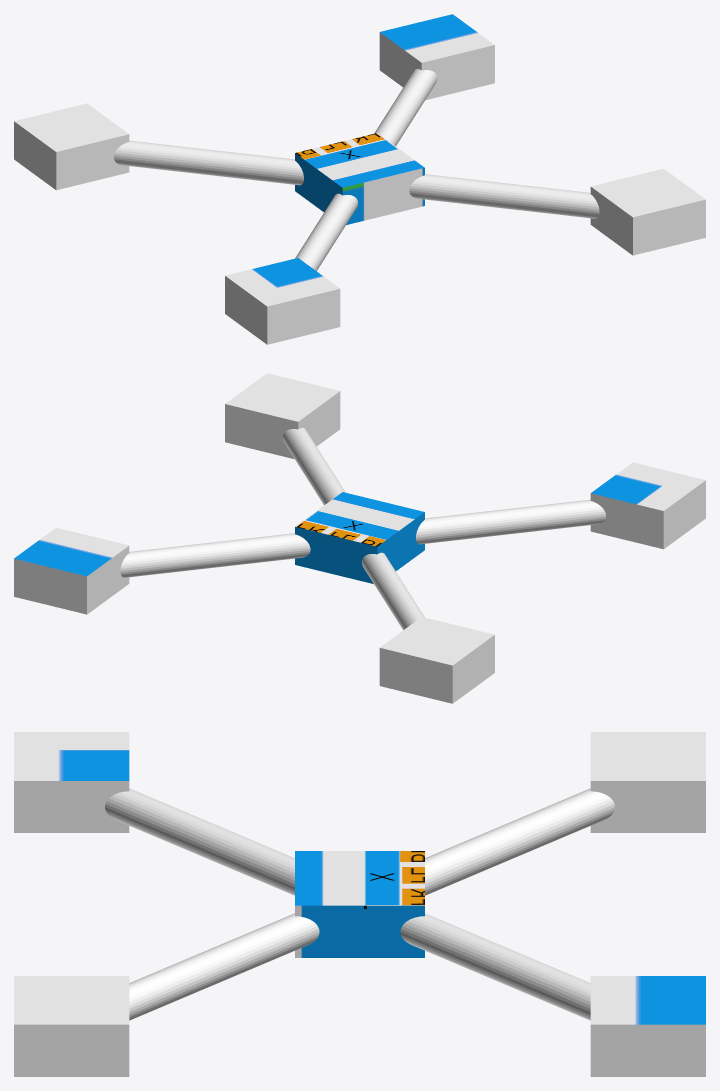
Rendered from drone.obj.
3 renders of one model, top to bottom at view 1: azimuth 30°, elevation 25°; view 2: azimuth 150°, elevation 25°; view 3: azimuth 270°, elevation 25°, orthographic. The views are drawn at different scales.
Visible parts, largest first — view 1: drone; view 2: drone; view 3: drone.
Part boxes in pixels (left/top/right/bottom): drone: left=14, top=14, right=705, bottom=344; drone: left=14, top=373, right=705, bottom=703; drone: left=14, top=732, right=705, bottom=1076.
Bounding box in the file's own units: 0.12 × 0.01 × 0.12.
1 material, 1 textured.
